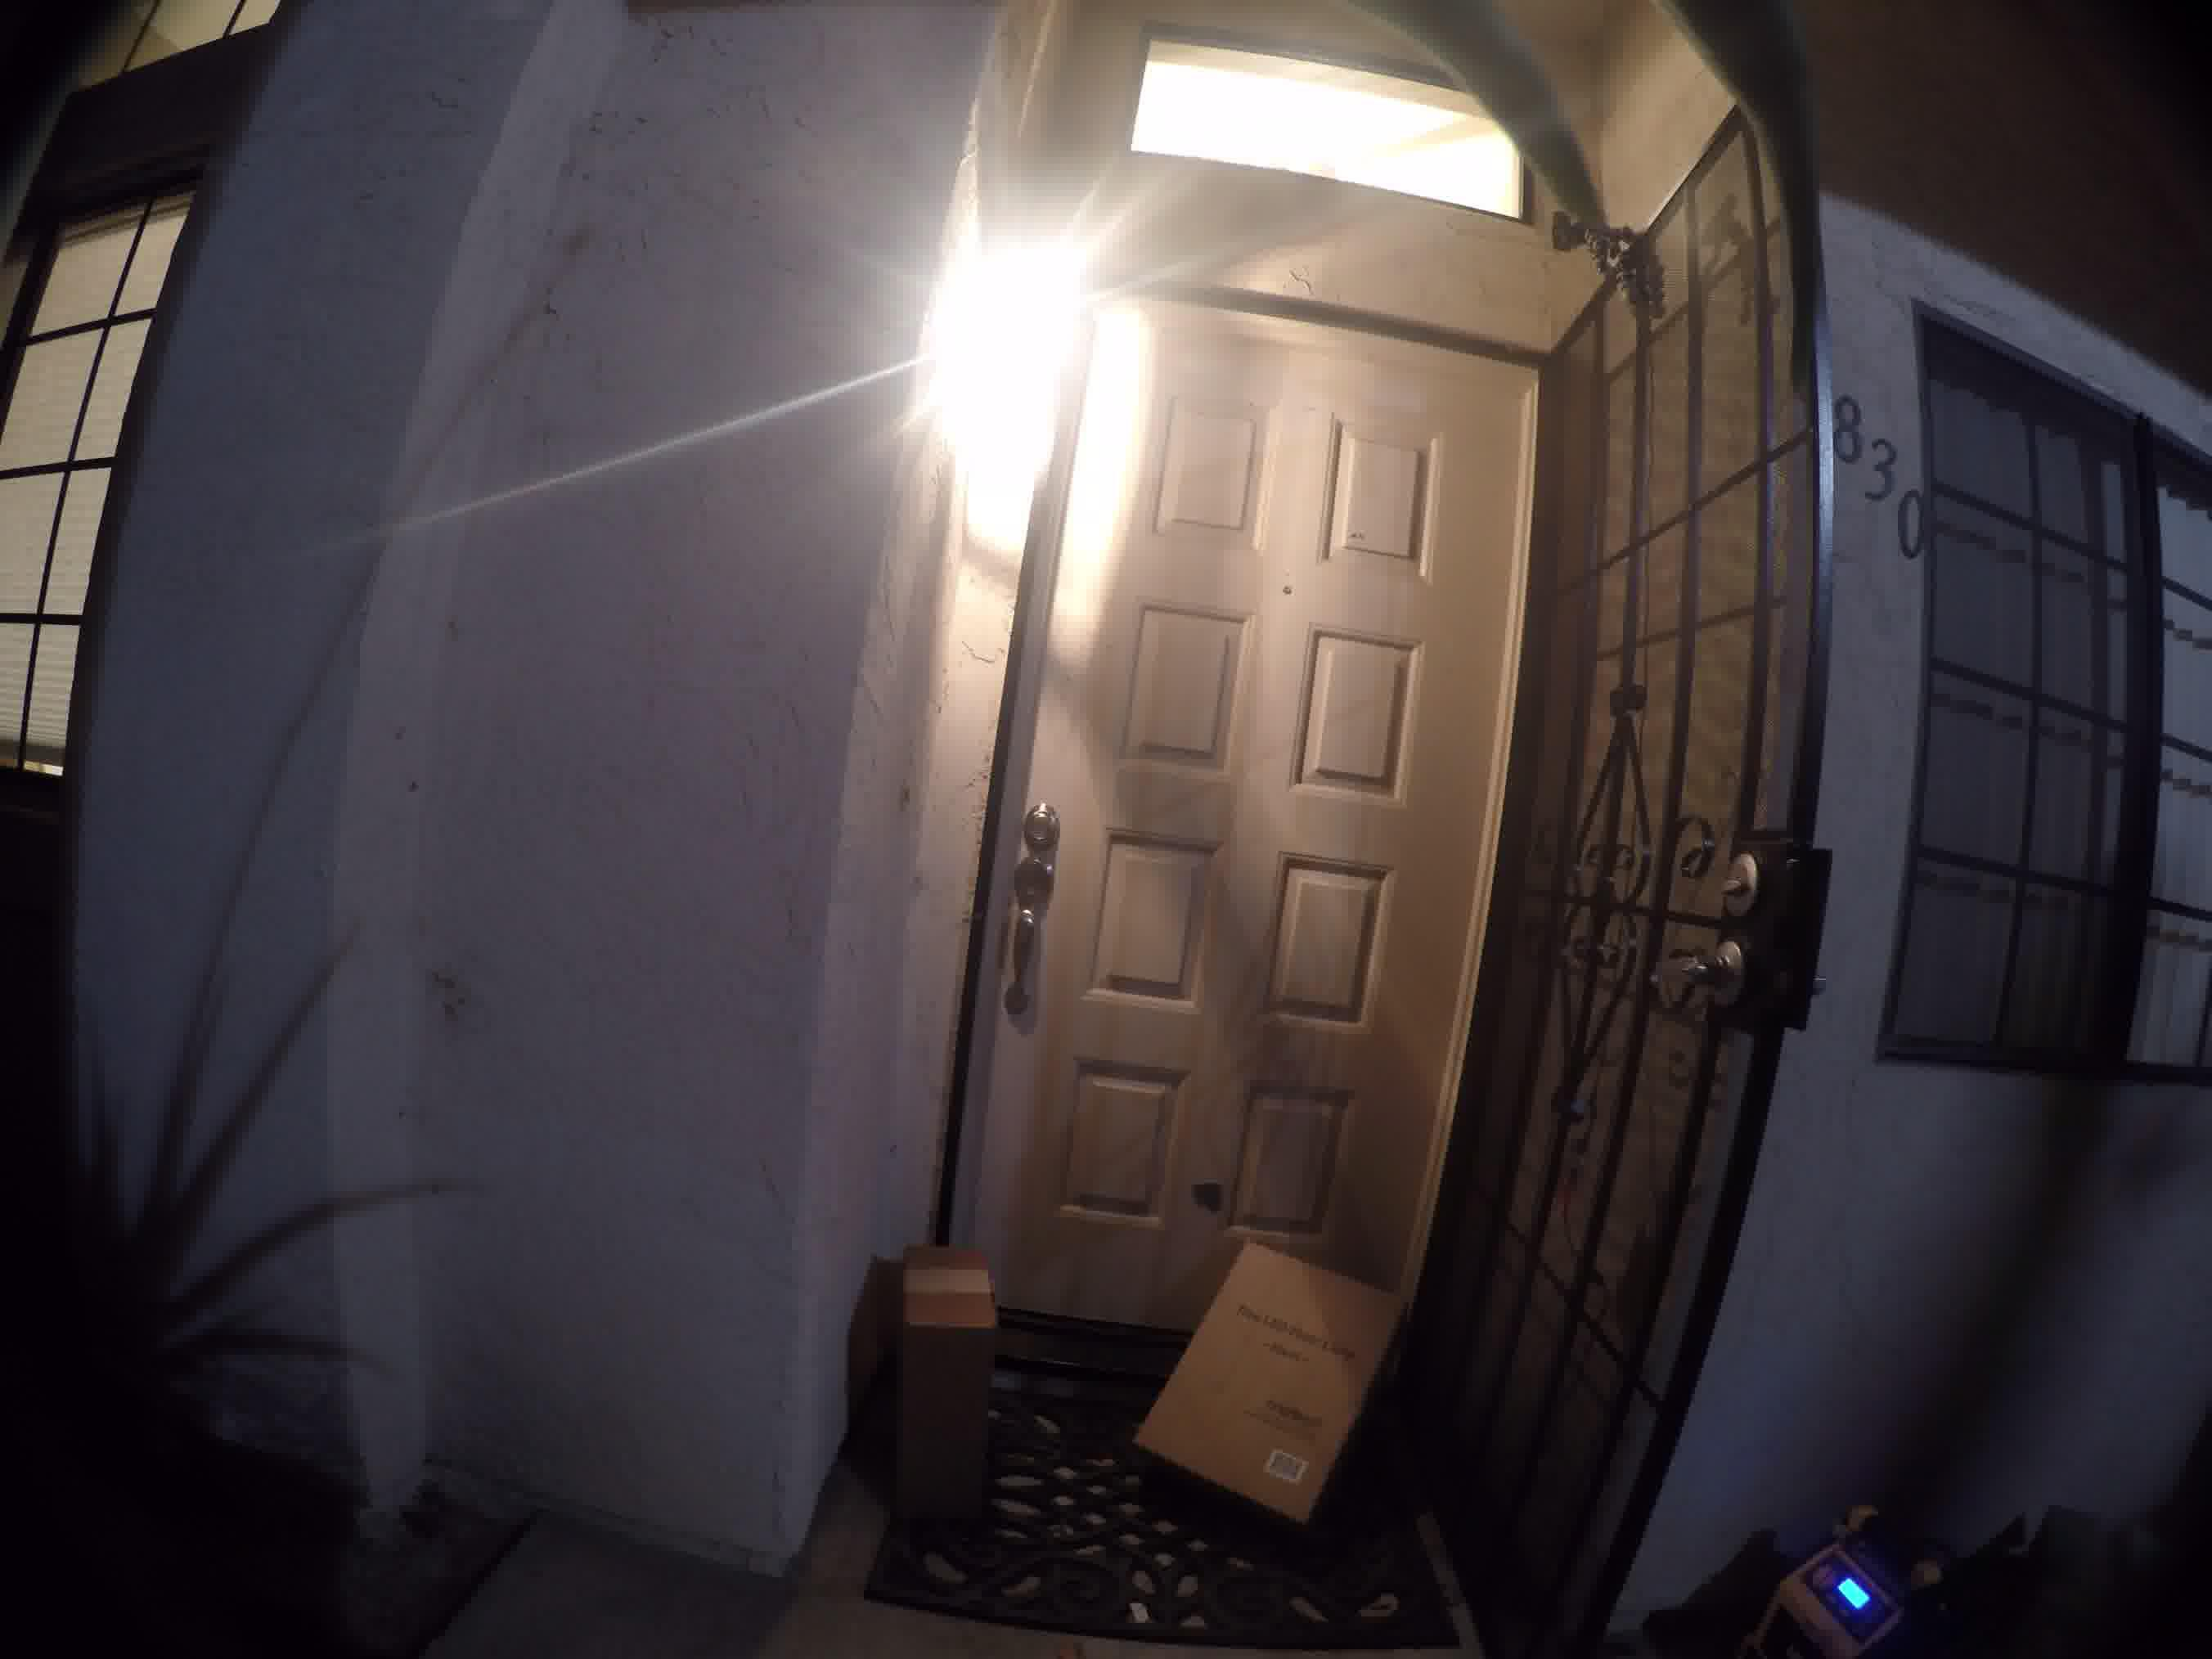box: (1125, 1208, 1421, 1535), (836, 1211, 1015, 1513)
